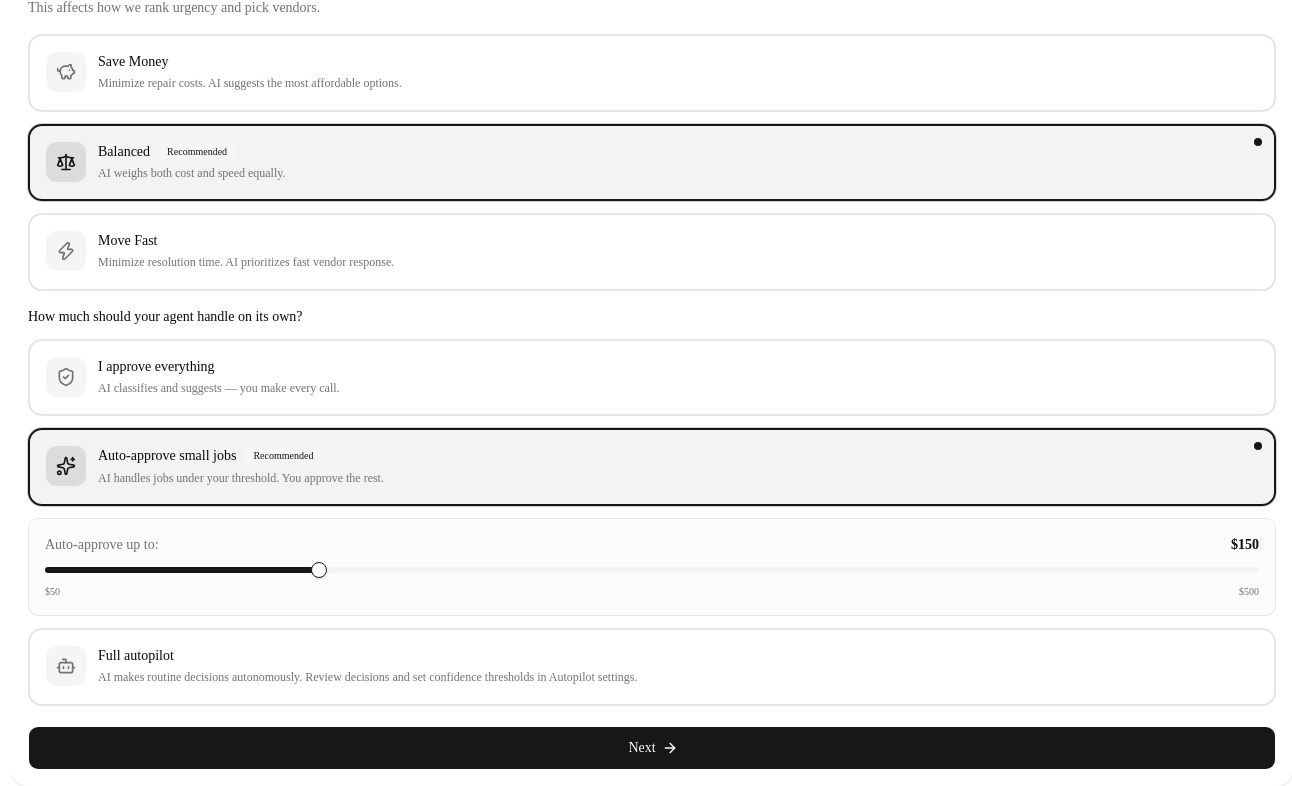
Test: OnboardingWizard › navigates to step 2 when Next is clicked
The image size is (1292, 786).
(page scrolled)
What coordinates should you click on to do the following:
click the button "Next"
I would click on:
 (652, 748)
Its box is [28,726,1276,770].
(page scrolled)
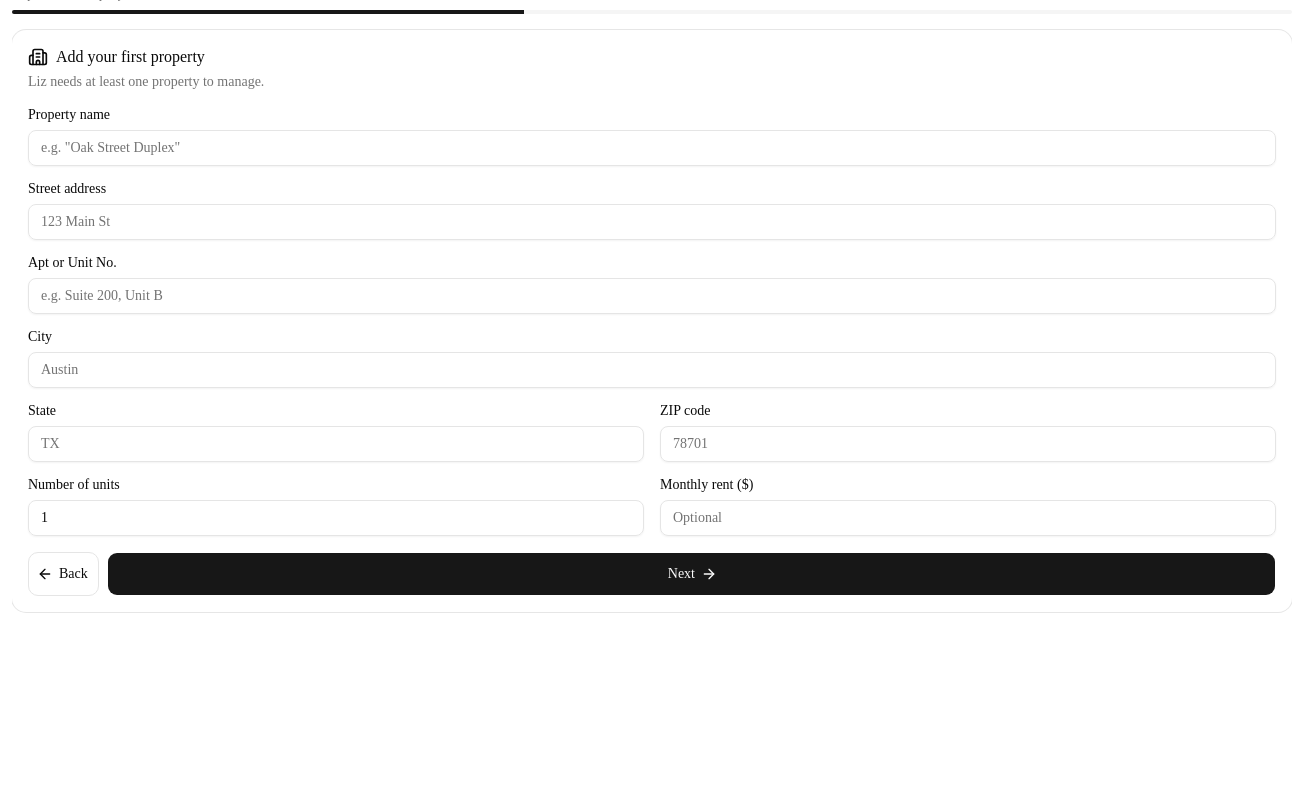
Expected: the text "Add your first property" is shown, [28,47,205,67]
